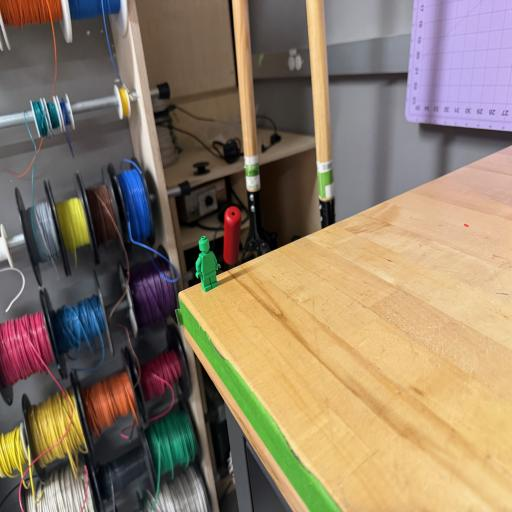Lego-Dude: (195, 236, 221, 291)
